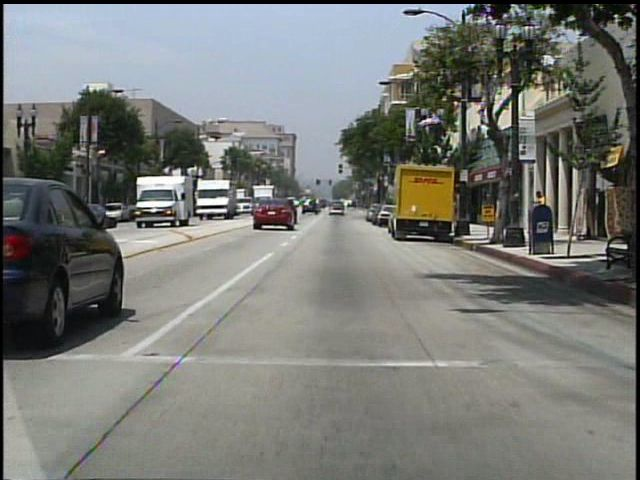person: (531, 189, 548, 237)
